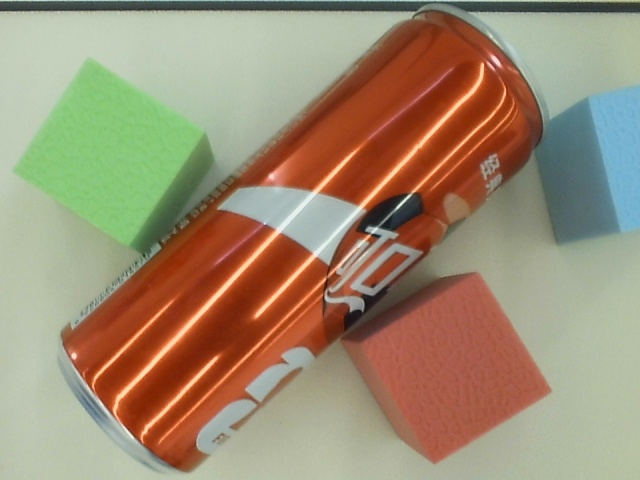bluecube: (532, 82, 640, 255)
cola: (45, 1, 562, 478)
greencube: (10, 56, 230, 254)
redcube: (343, 270, 555, 465)
